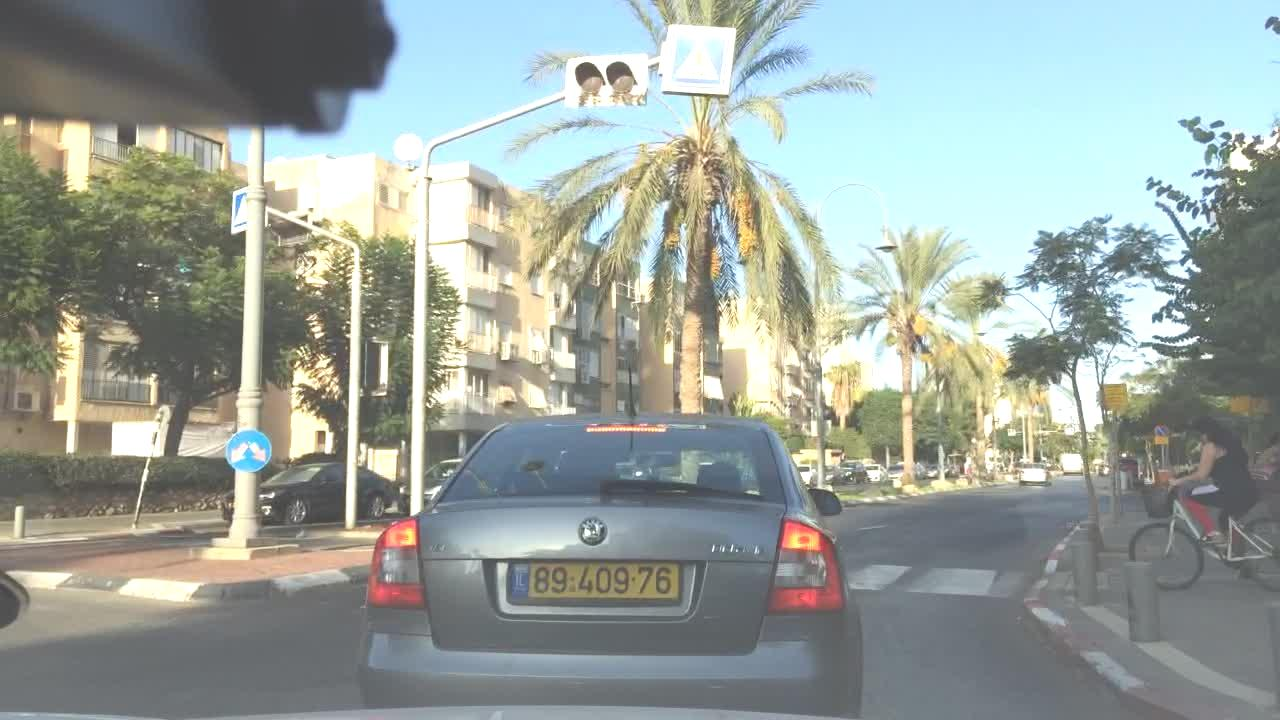skoda: (575, 513, 610, 548)
